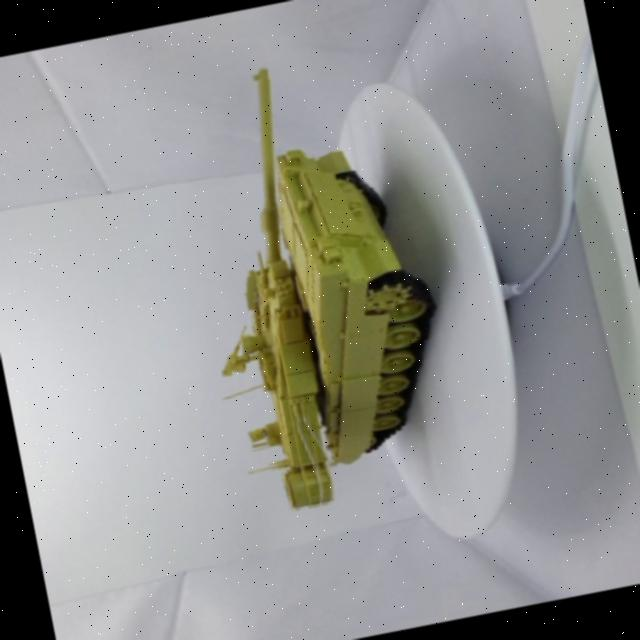korea tank: (146, 22, 480, 537)
